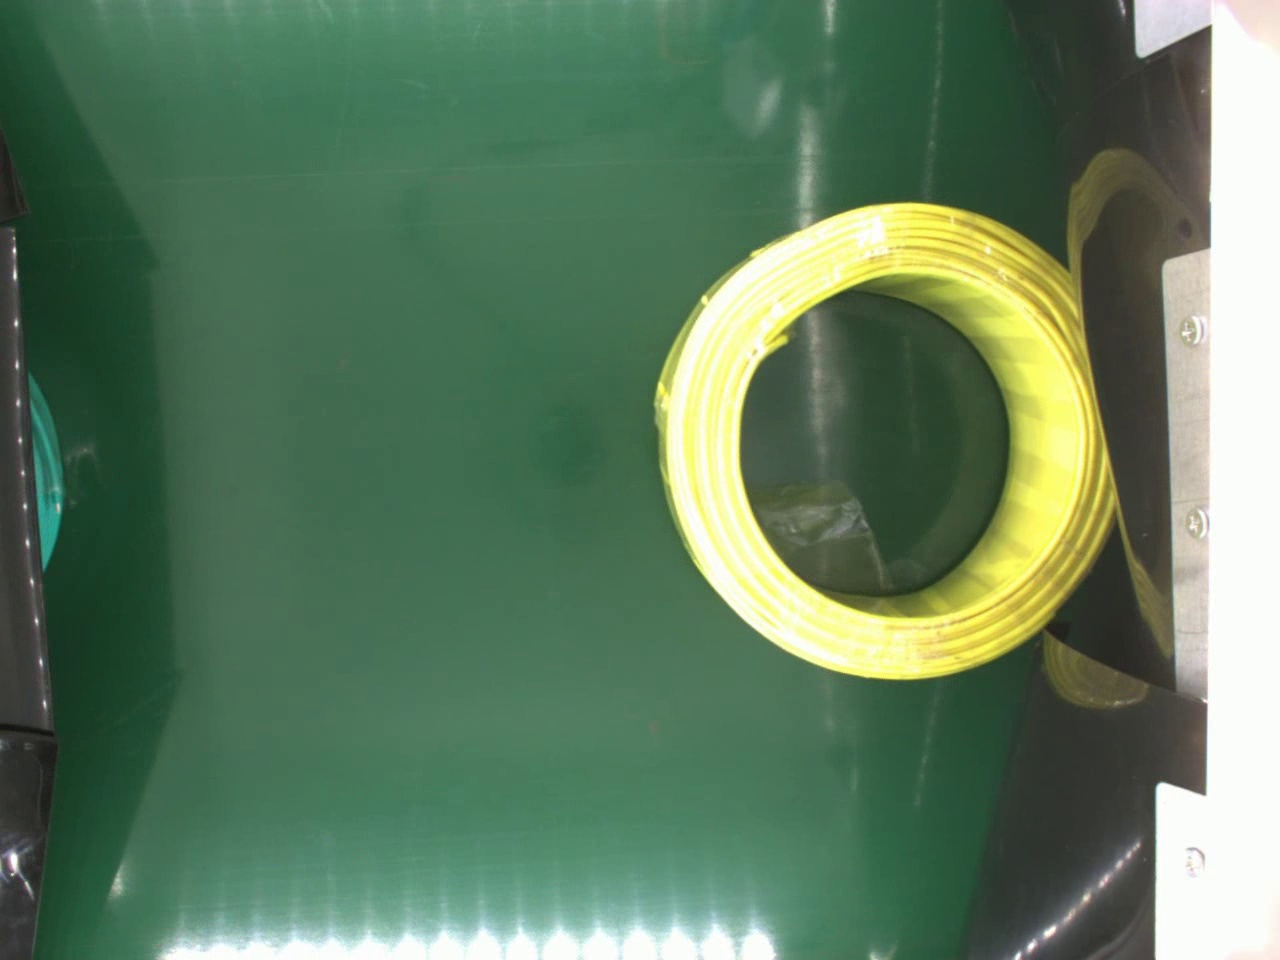yellow: (653, 195, 1112, 676)
